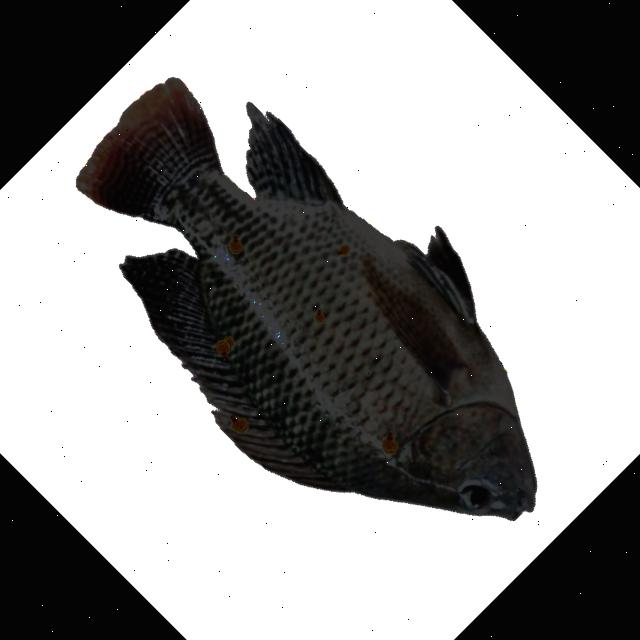Parasitic Disease: (77, 78, 535, 518)
